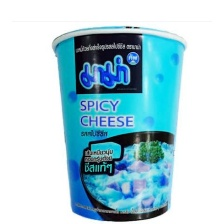paper_cup: (47, 18, 191, 224)
